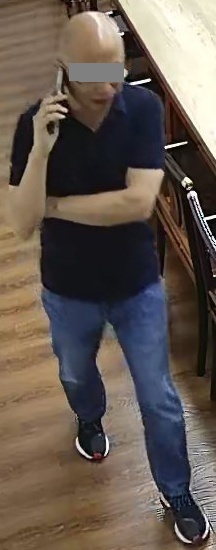phone: (46, 63, 66, 136)
